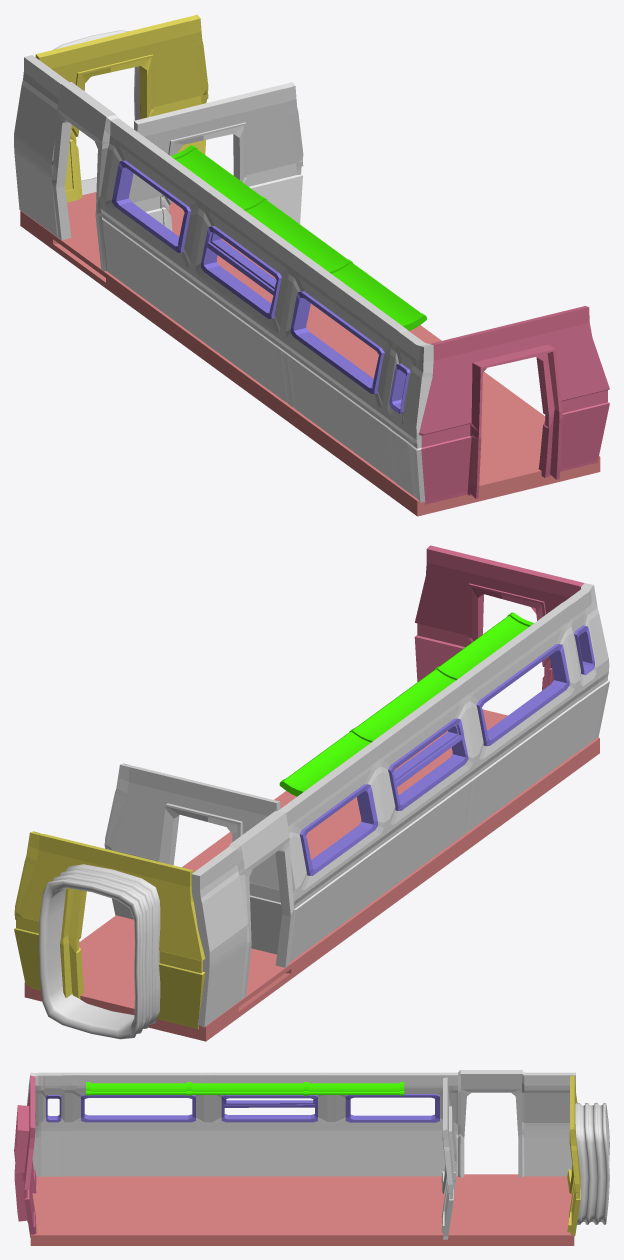
Rendered from Train_Updated.fbx.
The picture shows the model from 3 angles, top to bottom: view 1: azimuth 30°, elevation 25°; view 2: azimuth 150°, elevation 25°; view 3: azimuth 270°, elevation 25°; orthographic projection. The views are drawn at different scales.
Parts seen in each view (by area): view 1: Long_Side, Side_Wall, Floor, Main_Wall14, pasted__Main_Wall14, polySurface20, pCube82, outside_Connector; view 2: Long_Side, Floor, pasted__Main_Wall14, Main_Wall14, outside_Connector, Side_Wall, polySurface20, pCube82; view 3: Long_Side, Floor, polySurface20, pCube82, outside_Connector, Side_Wall, Main_Wall14, pasted__Main_Wall14.
Part boxes in pixels (box(x1,y1,x2,y2)): Long_Side: box(14, 55, 433, 502); Side_Wall: box(419, 306, 609, 504); Floor: box(20, 192, 600, 516); Main_Wall14: box(129, 82, 303, 231); pasted__Main_Wall14: box(35, 14, 208, 202); polySurface20: box(112, 160, 410, 413); pCube82: box(171, 145, 426, 330); outside_Connector: box(53, 30, 140, 195); Long_Side: box(191, 583, 609, 1027); Floor: box(24, 709, 599, 1041); pasted__Main_Wall14: box(14, 831, 205, 1029); Main_Wall14: box(104, 763, 282, 954); outside_Connector: box(38, 864, 160, 1039); Side_Wall: box(414, 545, 584, 690); polySurface20: box(299, 625, 594, 875); pCube82: box(279, 612, 533, 796); Long_Side: box(27, 1070, 575, 1177); Floor: box(30, 1174, 574, 1245); polySurface20: box(46, 1094, 439, 1122); pCube82: box(86, 1082, 404, 1095); outside_Connector: box(575, 1102, 609, 1224); Side_Wall: box(14, 1075, 36, 1237); Main_Wall14: box(441, 1077, 456, 1239); pasted__Main_Wall14: box(567, 1075, 583, 1236).
Bounding box in the file's own units: 2.31 × 1.89 × 8.81.
